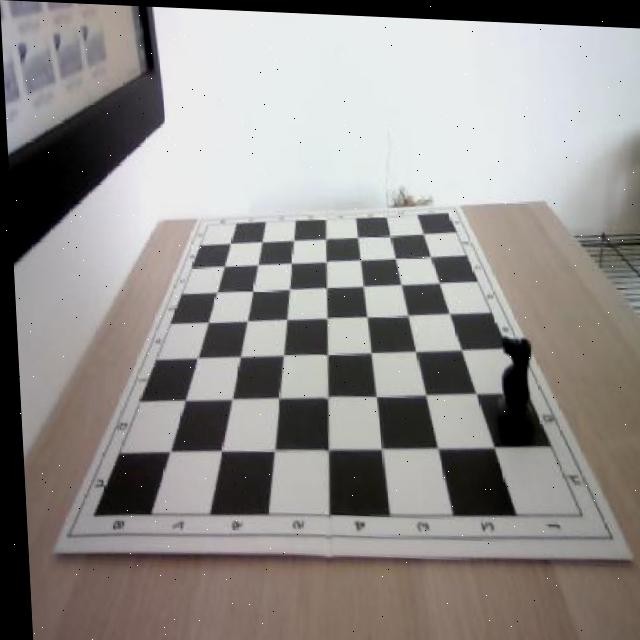black-king: (489, 329, 532, 434)
